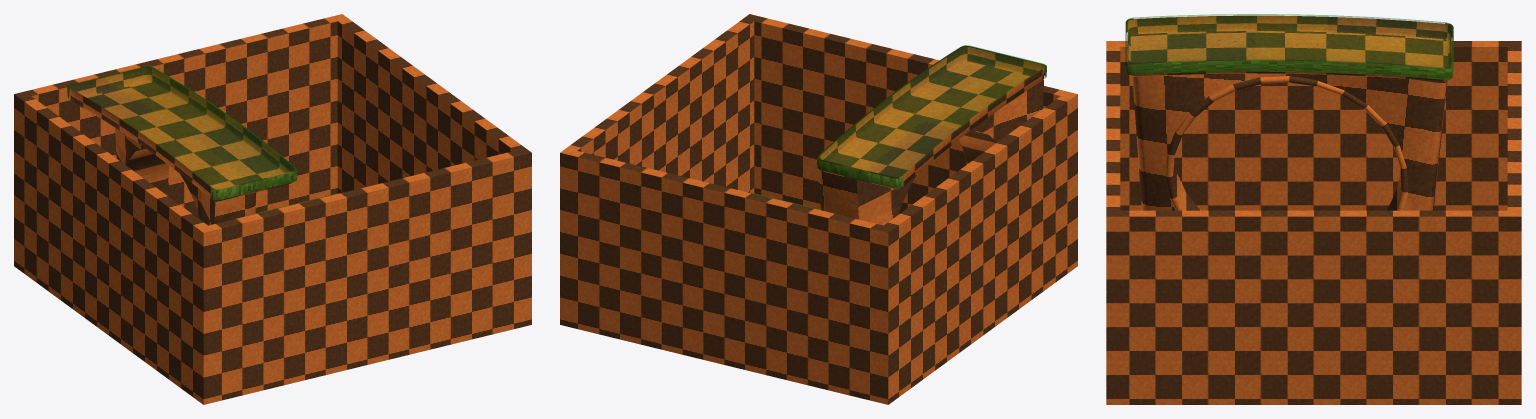
Rendered from 1A1A1A1AONEAAAAAA.glb.
3 views of the same model, side by side, from view 1: azimuth 30°, elevation 25°; view 2: azimuth 150°, elevation 25°; view 3: azimuth 270°, elevation 25° (orthographic). The views are drawn at different scales.
Visible parts, largest first — view 1: Plane, Windy Hill Zone 2.001; view 2: Plane, Windy Hill Zone 2.001; view 3: Plane, Windy Hill Zone 2.001.
Part boxes in pixels (x1,y1,x2,y2): Plane: [14, 14, 531, 404]; Windy Hill Zone 2.001: [67, 66, 297, 225]; Plane: [560, 14, 1077, 404]; Windy Hill Zone 2.001: [816, 45, 1046, 225]; Plane: [1106, 41, 1521, 404]; Windy Hill Zone 2.001: [1125, 14, 1453, 210].
Bounding box in the file's own units: 1183 × 726 × 1183.
3 materials, 3 textured.
